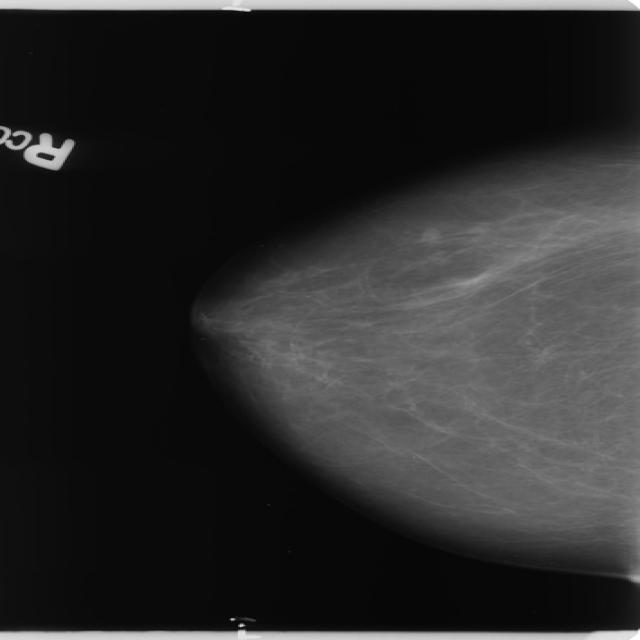tumour: (418, 225, 442, 242)
